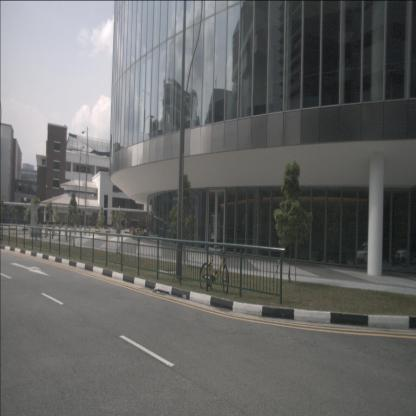vehicle-bicycle: (199, 244, 232, 294)
vehicle-car: (356, 241, 379, 264), (395, 243, 416, 265)
